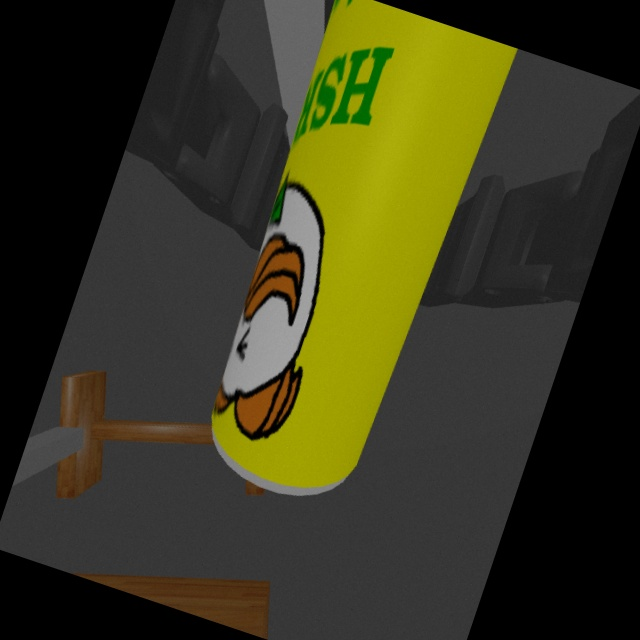chipsdose_gelb: (211, 1, 519, 497)
